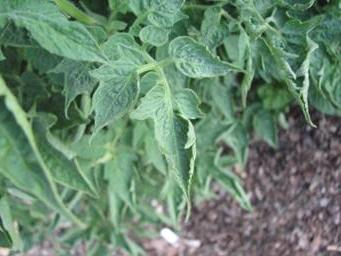Tomato leaf mosaic virus: (136, 78, 202, 209), (7, 2, 109, 63), (81, 57, 148, 143), (167, 33, 247, 82), (138, 25, 172, 44)
